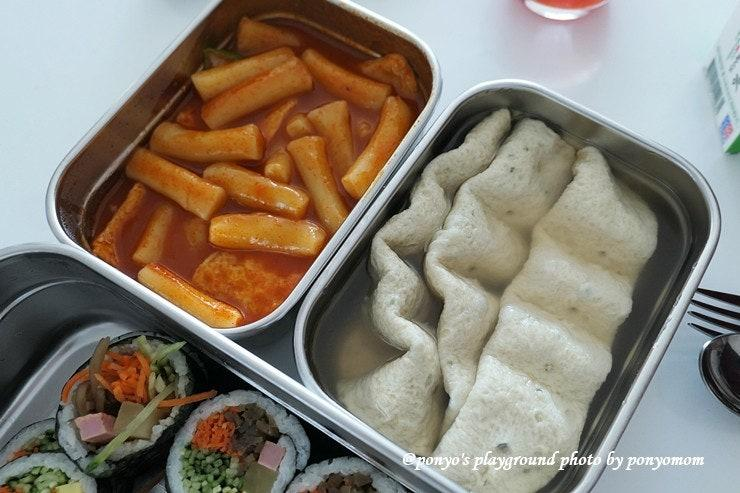Lunch Box: (293, 81, 718, 492), (47, 0, 439, 334), (0, 244, 464, 492)
